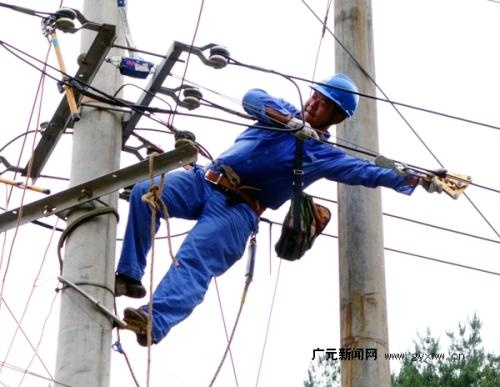blue: (299, 70, 362, 131)
